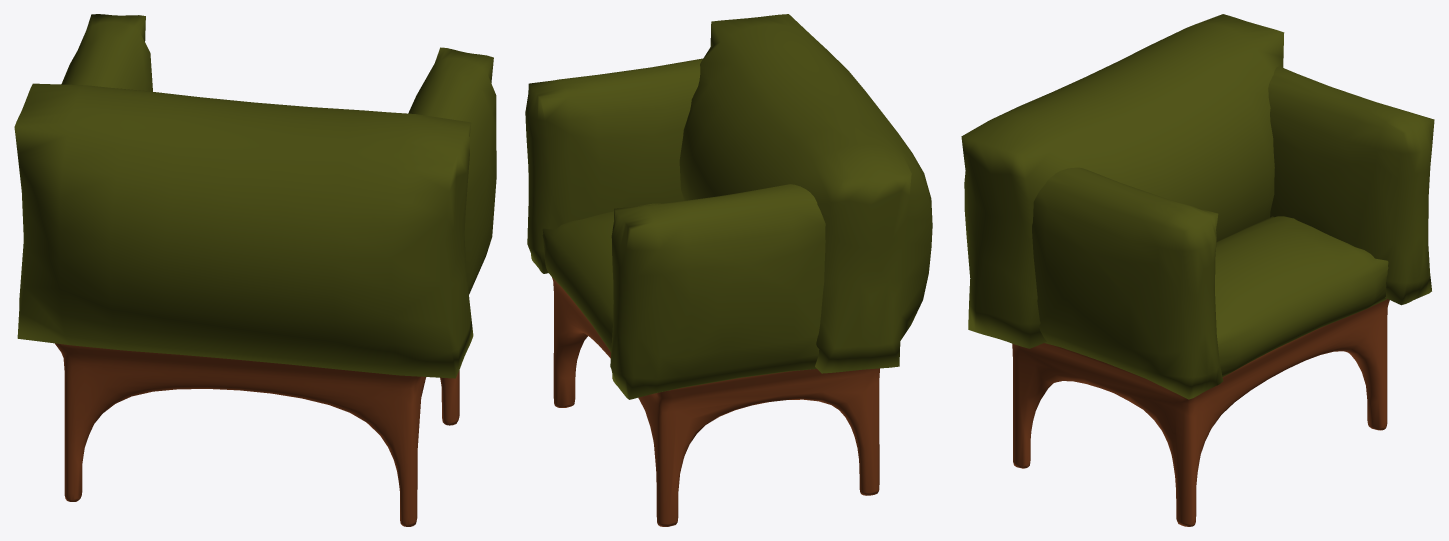
The model's file is armchair 1.fbx.
The picture shows the model from 3 angles, left to right: view 1: azimuth 30°, elevation 25°; view 2: azimuth 150°, elevation 25°; view 3: azimuth 270°, elevation 25°; orthographic projection. The views are drawn at different scales.
Visible parts, largest first — view 1: armchair.001; view 2: armchair.001; view 3: armchair.001.
Boxes of the visible parts, box(x1,y1,x2,y2) form: armchair.001: box(14, 14, 496, 526); armchair.001: box(525, 14, 932, 526); armchair.001: box(961, 14, 1434, 526).
Size of the model in its own units: 459 by 381 by 470.
